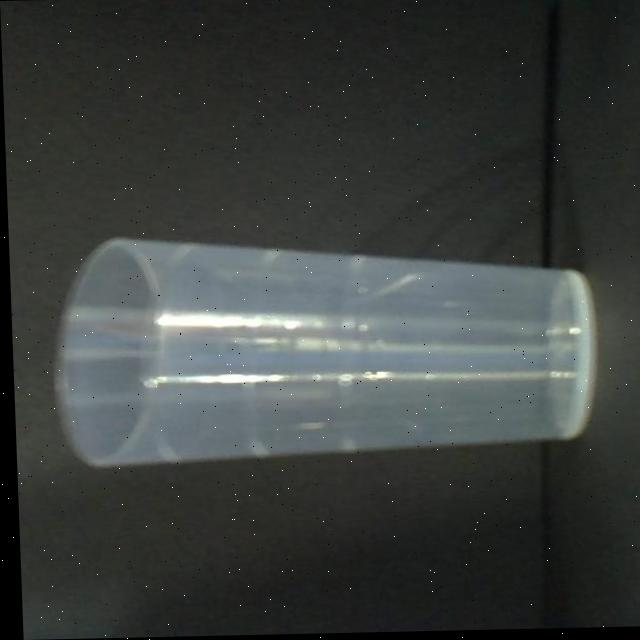cup: (54, 239, 593, 465)
